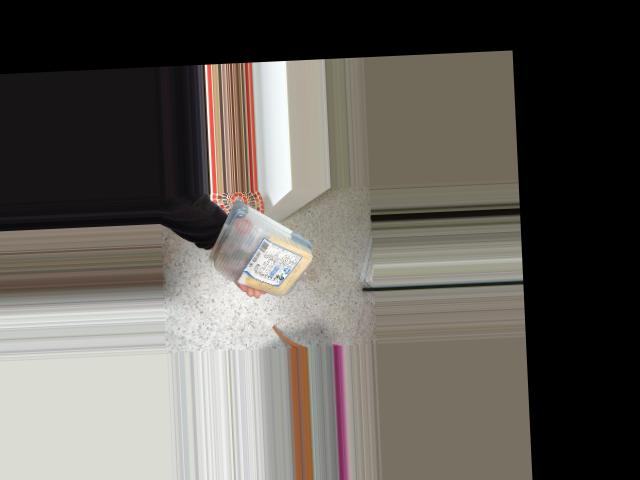cheese: (208, 204, 321, 300)
